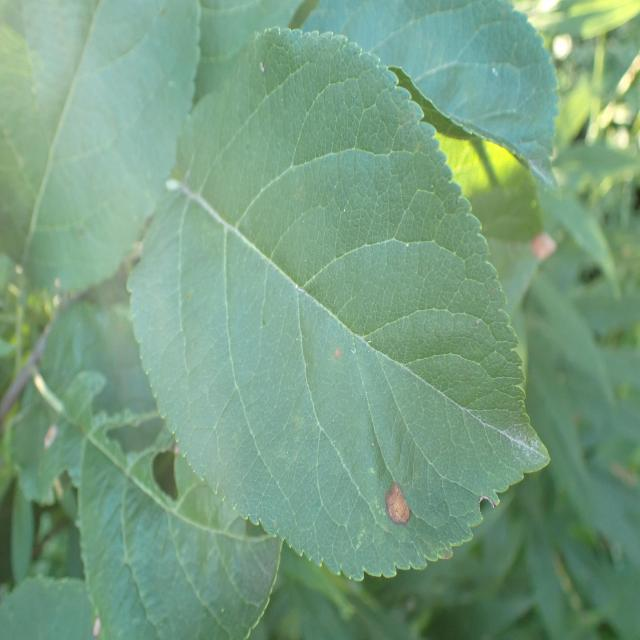Black Rot: (366, 467, 434, 553)
